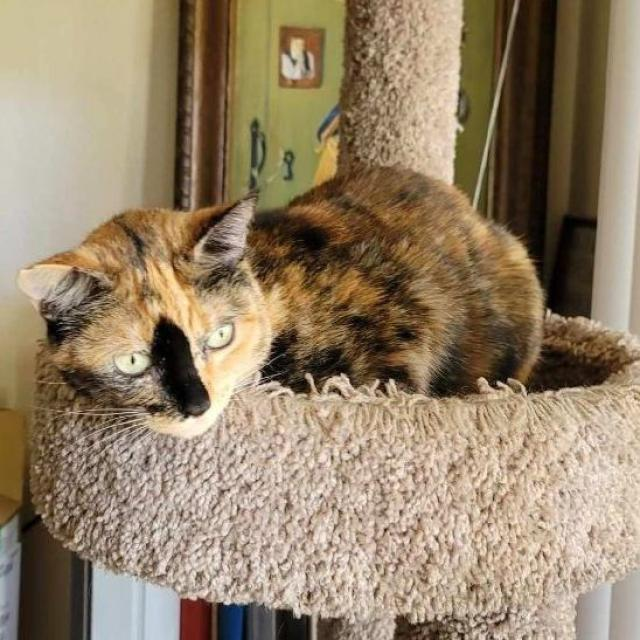calico_cat: (12, 181, 306, 453)
